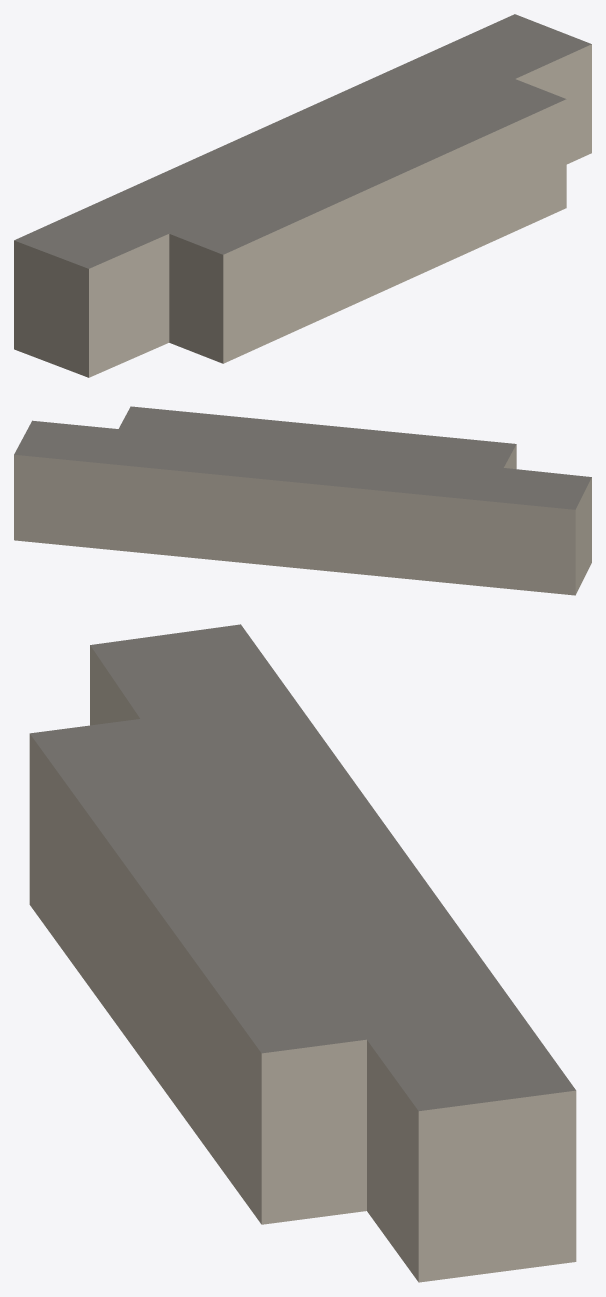
3 views of the same model, one above another, from view 1: azimuth 30°, elevation 25°; view 2: azimuth 150°, elevation 25°; view 3: azimuth 270°, elevation 25° (orthographic). The views are drawn at different scales.
Parts seen in each view (by area): view 1: HP-w292718777; view 2: HP-w292718777; view 3: HP-w292718777.
Part boxes in pixels (bbox=[...]): HP-w292718777: bbox=[14, 14, 591, 377]; HP-w292718777: bbox=[14, 406, 591, 595]; HP-w292718777: bbox=[29, 624, 576, 1282].
Size of the model in its own units: 73.11 by 12 by 34.69.
